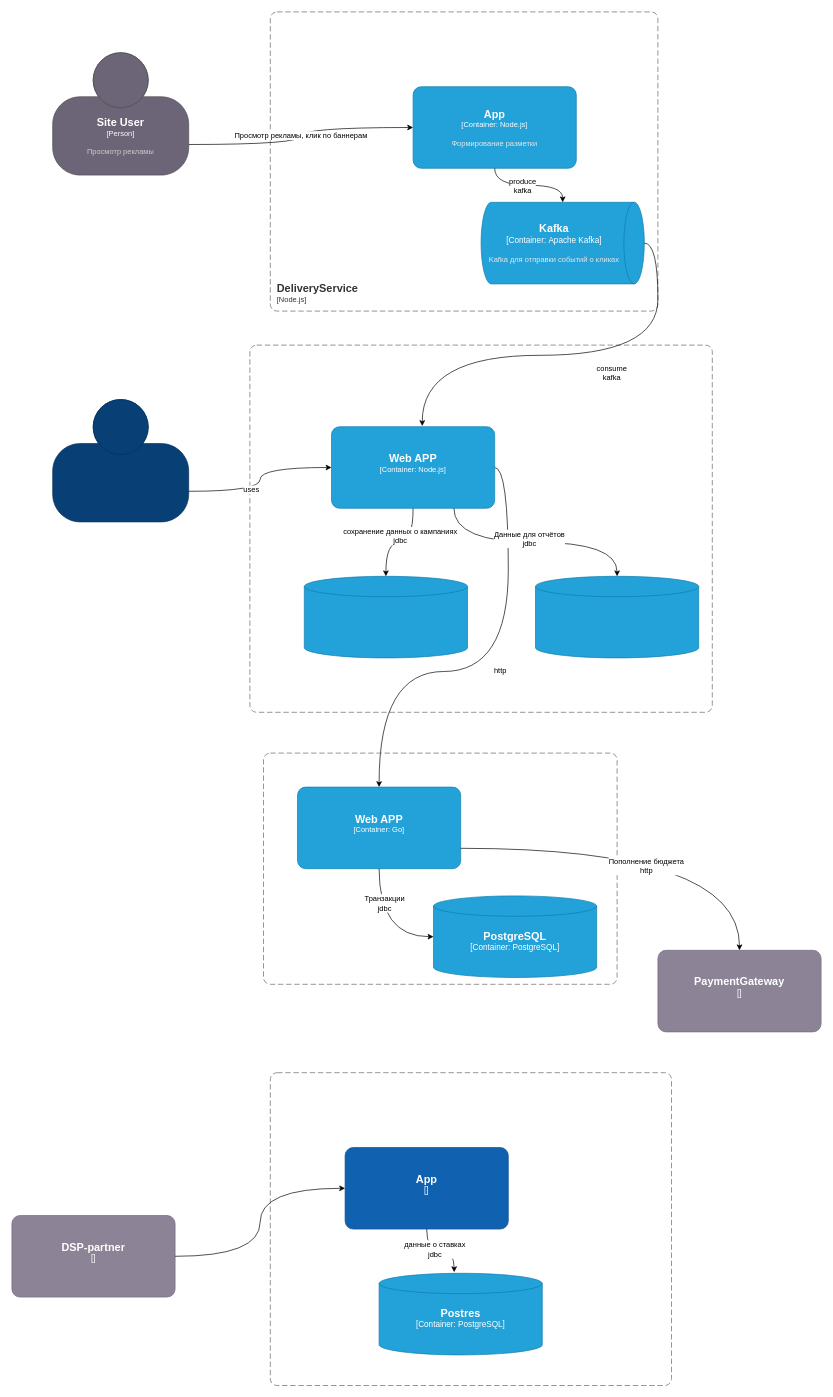
The diagram is 833 pixels wide and 1397 high, and some of its shapes have lost their labels. Here are the shapes that lost their labels. From the top down, the box of each, then its label:
(52, 399, 189, 522): Рекламодатель [] Управляет кампаниями и бюджетами
(249, 344, 712, 712): ADservice [JS + Node.js]
(304, 576, 468, 658): Postgres main [Container: PostgreSQL]
(535, 576, 699, 658): Postgres replica [Container: PostgreSQL]
(263, 752, 617, 984): FinanceService [Go]
(270, 1072, 672, 1386): AuctionService [C++]
